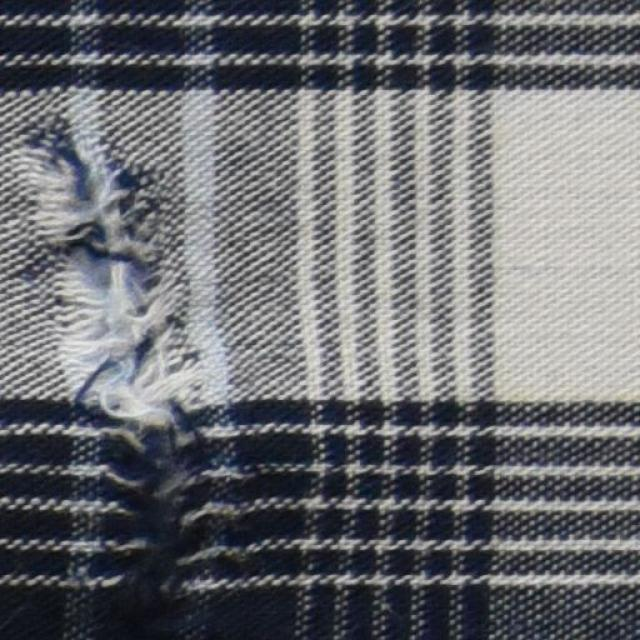Hole: (82, 235, 123, 285)
Snag: (94, 191, 217, 634), (43, 149, 141, 428)
